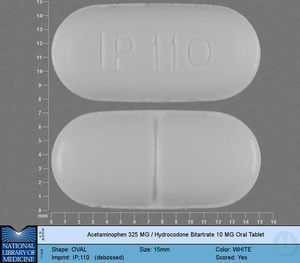Acetaminophen 325 MG Oral Tablet: (49, 107, 269, 212), (50, 1, 262, 105)
